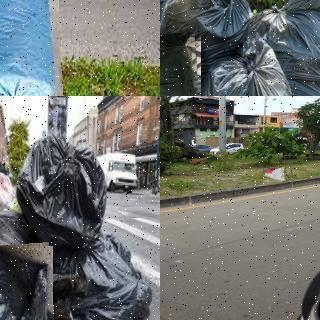Garbage: (15, 132, 106, 249), (250, 0, 320, 96), (54, 242, 135, 320), (0, 0, 61, 96), (202, 33, 291, 96), (160, 0, 250, 61), (0, 244, 55, 320), (0, 206, 45, 263), (263, 168, 286, 183)
